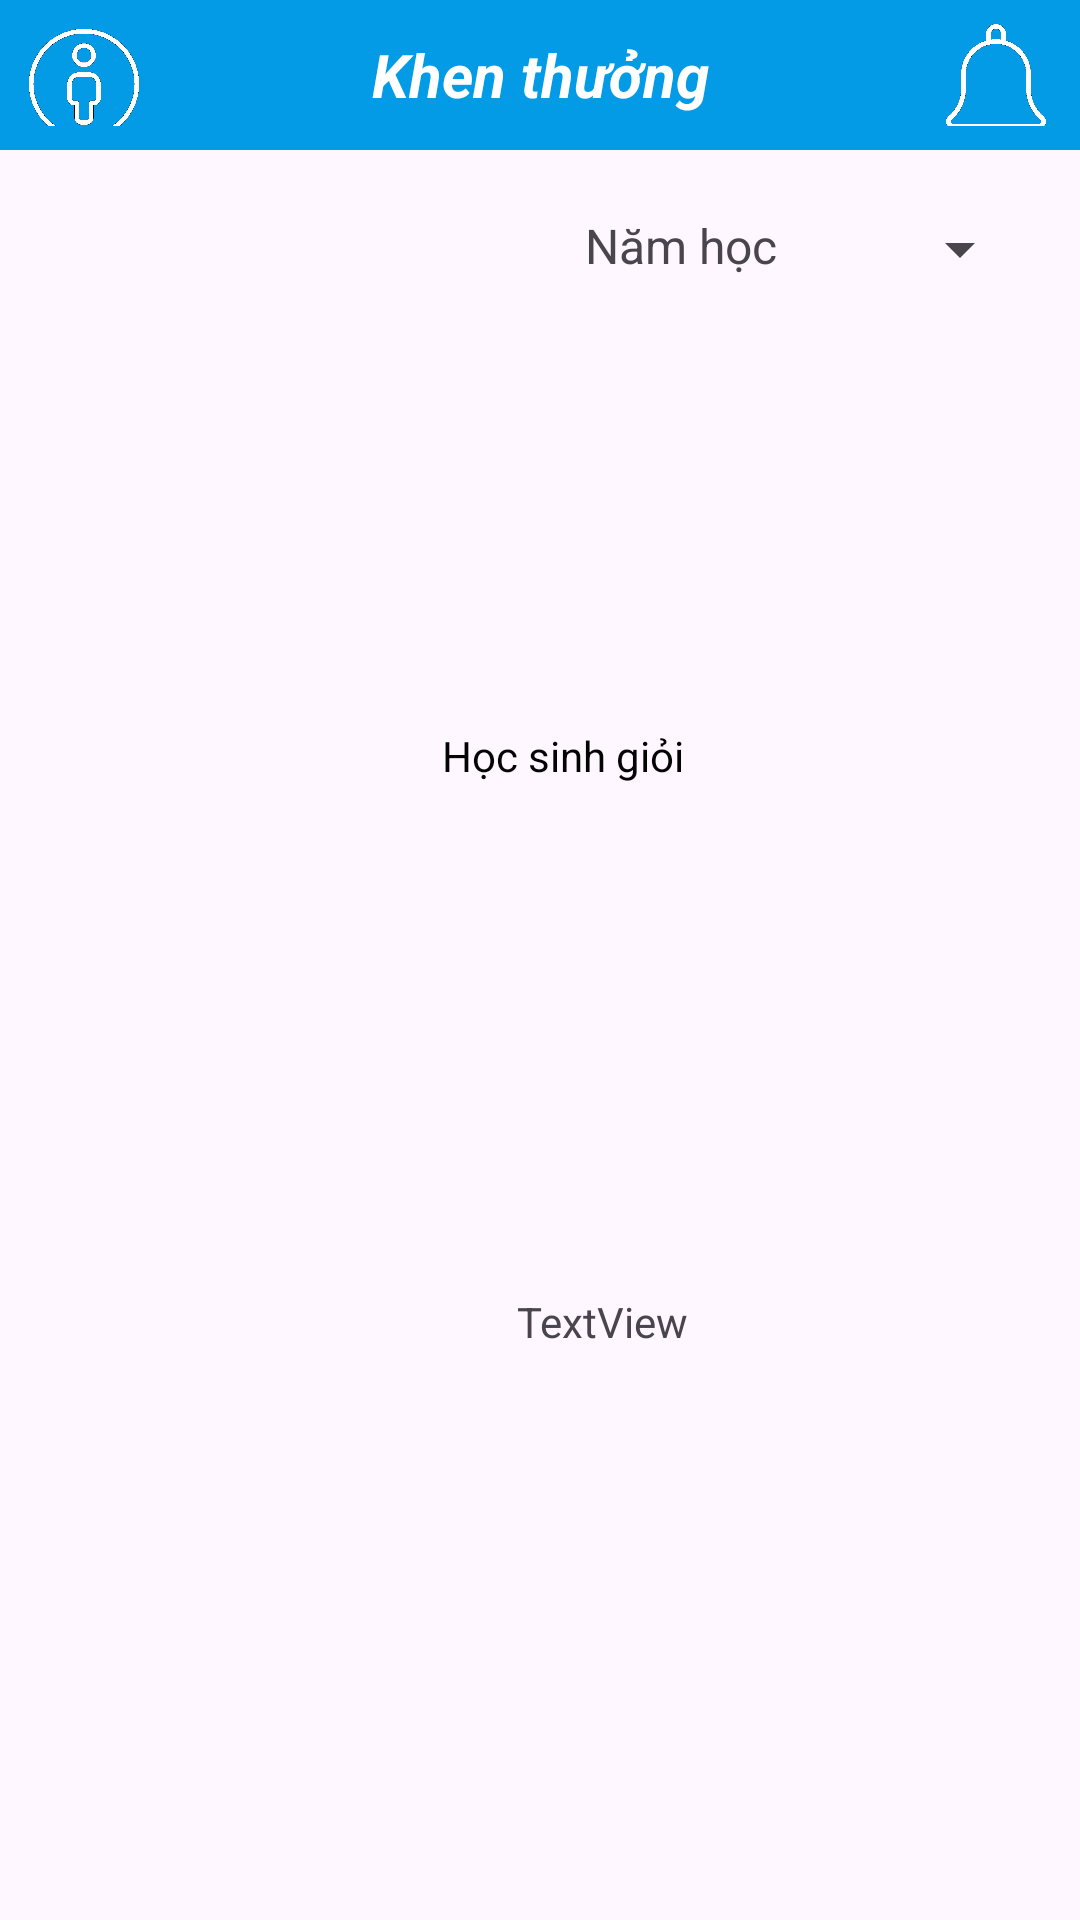

Screen size 1080x1920. Icon name, then its box in pixels as (x1=x1, y1=y1, x2=x2, y2=y2):
bell: (x1=946, y1=24, x2=1046, y2=126)
